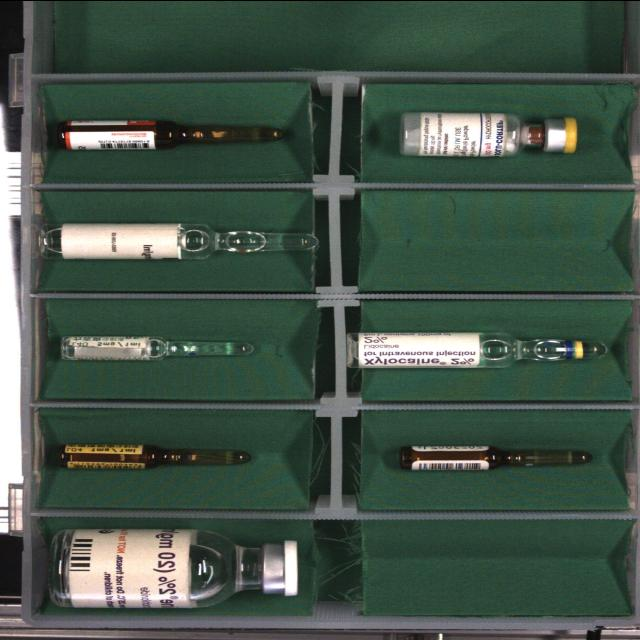Vials: (50, 528, 298, 607), (400, 111, 578, 156)
